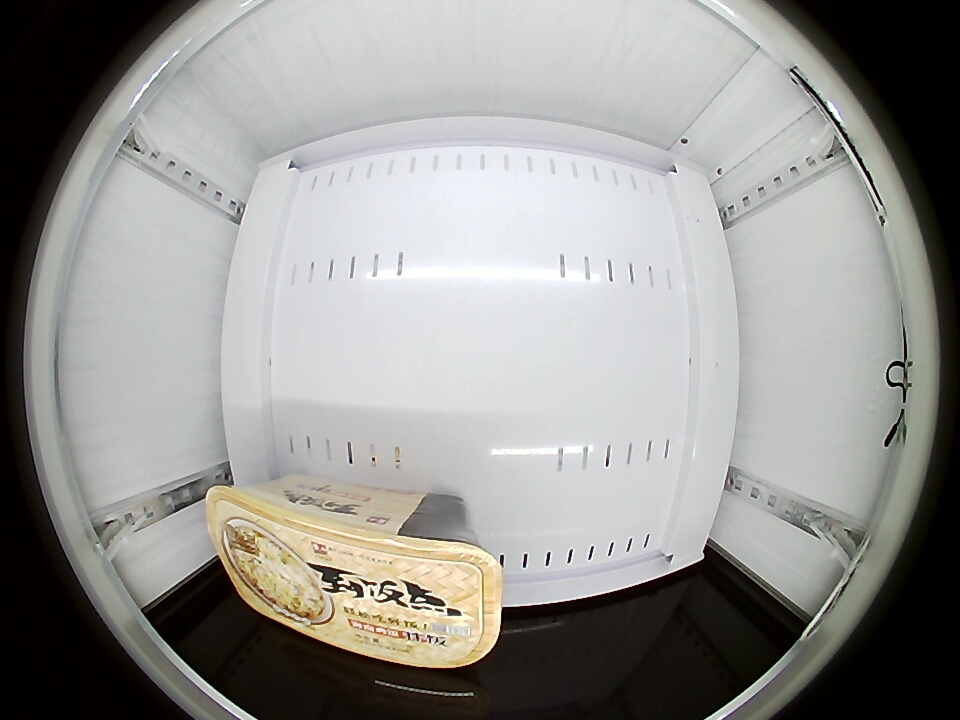daofandian1: (207, 480, 503, 667)
